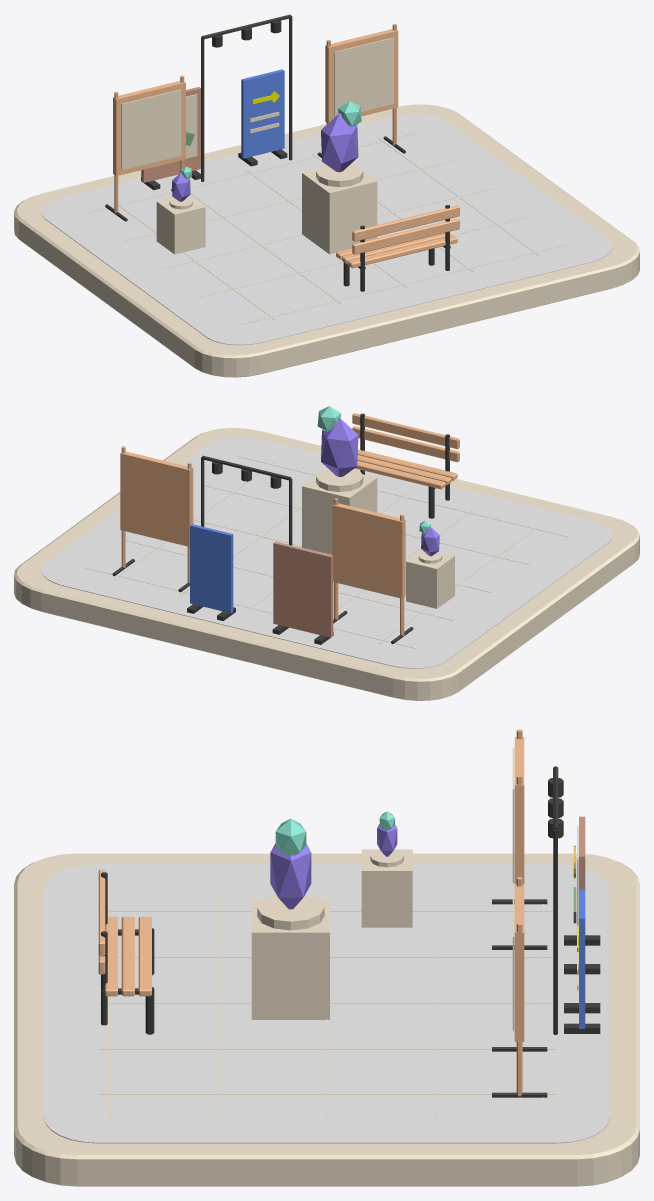
3 views of the same model, one above another, from view 1: azimuth 30°, elevation 25°; view 2: azimuth 150°, elevation 25°; view 3: azimuth 270°, elevation 25° (orthographic). The views are drawn at different scales.
Visible parts, largest first — view 1: COM-02 Floor Surface, COM-01 Rounded Base Direct, Display plinth, Art surface, Art surface.001, Panel.001, Display plinth.001, Frame, Frame.001, Sculpture, Back slat, Back slat.001 (+7 smaller); view 2: COM-02 Floor Surface, COM-01 Rounded Base Direct, Frame, Frame.001, Panel, Panel.001, Display plinth, Display plinth.001, Sculpture, Back slat.001, Back slat, Plinth (+5 smaller); view 3: COM-02 Floor Surface, COM-01 Rounded Base Direct, Display plinth, Display plinth.001, Sculpture, Plinth, Frame.001, Frame, Seat slat, Seat slat.001, Pole.001, Panel.001 (+6 smaller).
Boxes of the visible parts, x1=… form: COM-02 Floor Surface: x1=41, y1=114, x2=612, y2=345; COM-01 Rounded Base Direct: x1=14, y1=104, x2=639, y2=377; Display plinth: x1=302, y1=169, x2=377, y2=254; Art surface: x1=121, y1=89, x2=181, y2=169; Art surface.001: x1=334, y1=37, x2=393, y2=117; Panel.001: x1=241, y1=69, x2=284, y2=158; Display plinth.001: x1=156, y1=195, x2=205, y2=254; Frame: x1=113, y1=81, x2=185, y2=176; Frame.001: x1=325, y1=29, x2=398, y2=123; Sculpture: x1=321, y1=113, x2=358, y2=172; Back slat: x1=352, y1=218, x2=459, y2=254; Back slat.001: x1=352, y1=205, x2=459, y2=241; COM-02 Floor Surface: x1=41, y1=437, x2=612, y2=668; COM-01 Rounded Base Direct: x1=14, y1=428, x2=639, y2=700; Frame: x1=332, y1=503, x2=405, y2=598; Frame.001: x1=120, y1=451, x2=193, y2=546; Panel: x1=273, y1=541, x2=333, y2=637; Panel.001: x1=190, y1=524, x2=233, y2=613; Display plinth: x1=302, y1=474, x2=377, y2=554; Display plinth.001: x1=406, y1=550, x2=454, y2=608; Sculpture: x1=321, y1=418, x2=358, y2=476; Back slat.001: x1=352, y1=413, x2=459, y2=449; Back slat: x1=352, y1=426, x2=459, y2=462; Plinth: x1=316, y1=468, x2=363, y2=491; COM-02 Floor Surface: x1=44, y1=864, x2=609, y2=1143; COM-01 Rounded Base Direct: x1=14, y1=853, x2=639, y2=1186; Display plinth: x1=251, y1=899, x2=329, y2=1019; Display plinth.001: x1=361, y1=849, x2=412, y2=927; Sculpture: x1=270, y1=843, x2=311, y2=909; Plinth: x1=257, y1=895, x2=324, y2=930; Frame.001: x1=514, y1=884, x2=524, y2=1041; Frame: x1=514, y1=737, x2=524, y2=884; Seat slat: x1=138, y1=916, x2=151, y2=996; Seat slat.001: x1=121, y1=916, x2=134, y2=996; Pole.001: x1=553, y1=830, x2=557, y2=1034; Panel.001: x1=579, y1=890, x2=585, y2=1028.
Size of the model in its own units: 6 by 2.19 by 5.2.
Materials: 1 (1 with a texture image).
